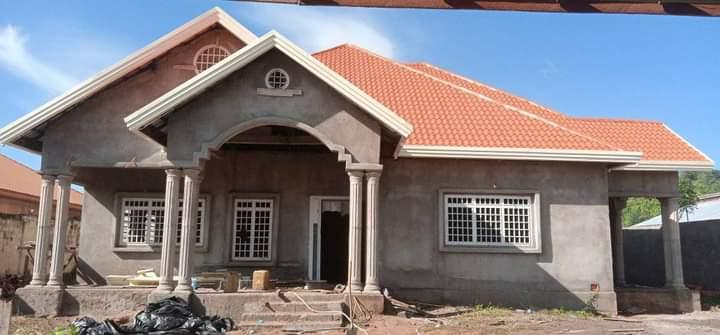trash: (73, 296, 234, 334), (382, 290, 472, 318), (192, 269, 270, 292), (109, 270, 159, 285)
